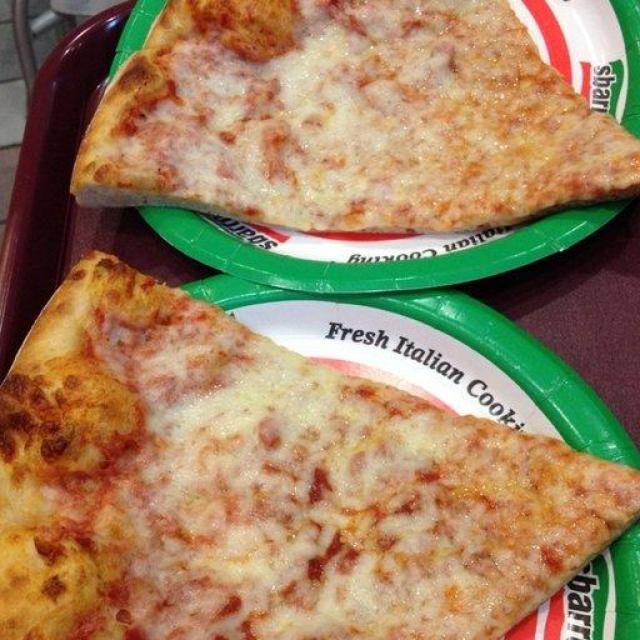food_waste: (10, 252, 640, 640), (2, 3, 640, 224)
